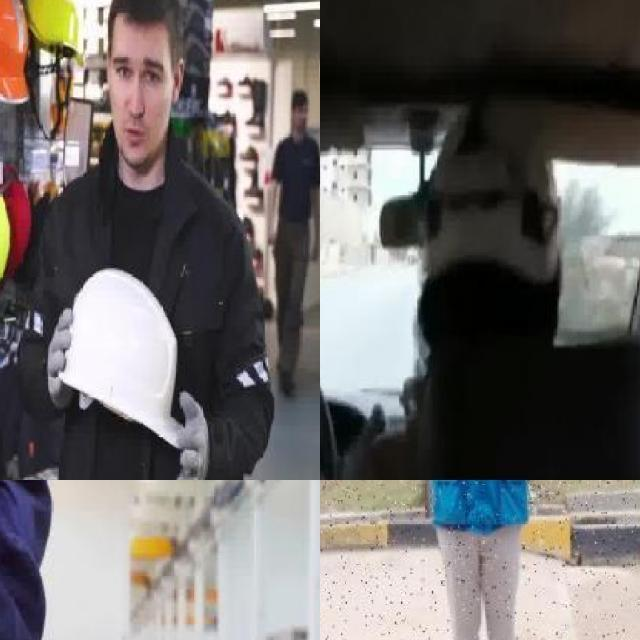apron: (171, 391, 209, 480), (46, 304, 76, 412)
